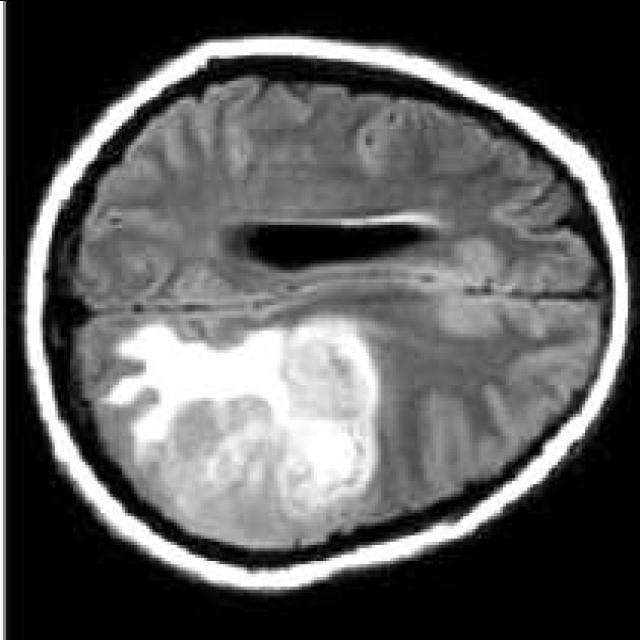tumor: (107, 320, 381, 518)
